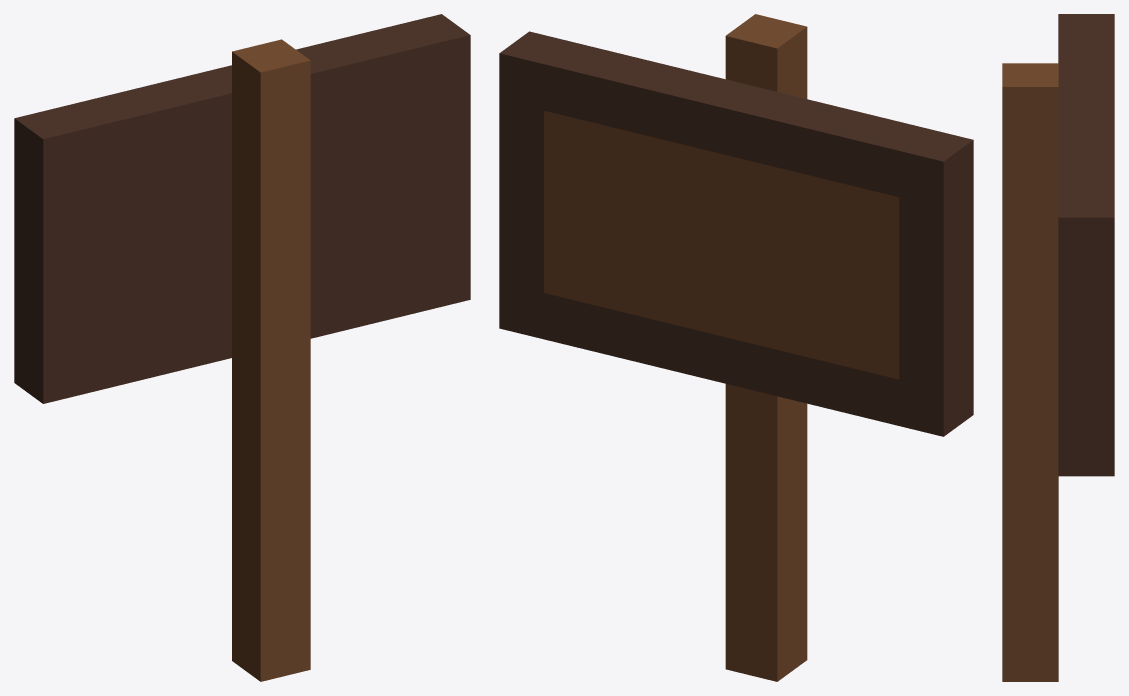
The model's file is sign.glb.
3 views of the same model, side by side, from view 1: azimuth 30°, elevation 25°; view 2: azimuth 150°, elevation 25°; view 3: azimuth 270°, elevation 25° (orthographic). The views are drawn at different scales.
Visible parts, largest first — view 1: sign; view 2: sign; view 3: sign.
Part boxes in pixels (left/top/right/bottom): sign: left=14, top=14, right=470, bottom=681; sign: left=499, top=14, right=973, bottom=681; sign: left=1002, top=14, right=1114, bottom=681.
Size of the model in its own units: 0.3 by 0.4088 by 0.07.
